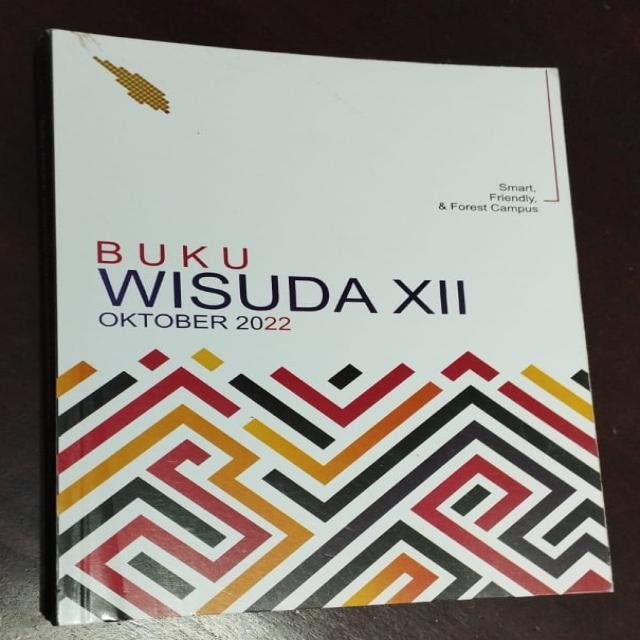Organik: (37, 27, 615, 627)
